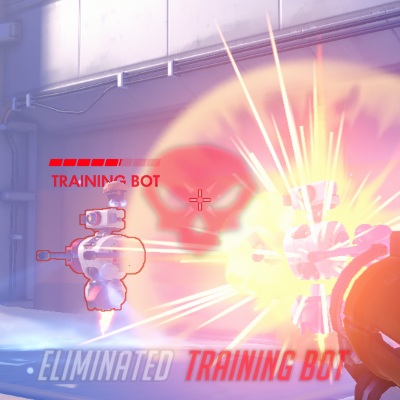hpbar: (48, 158, 161, 167)
